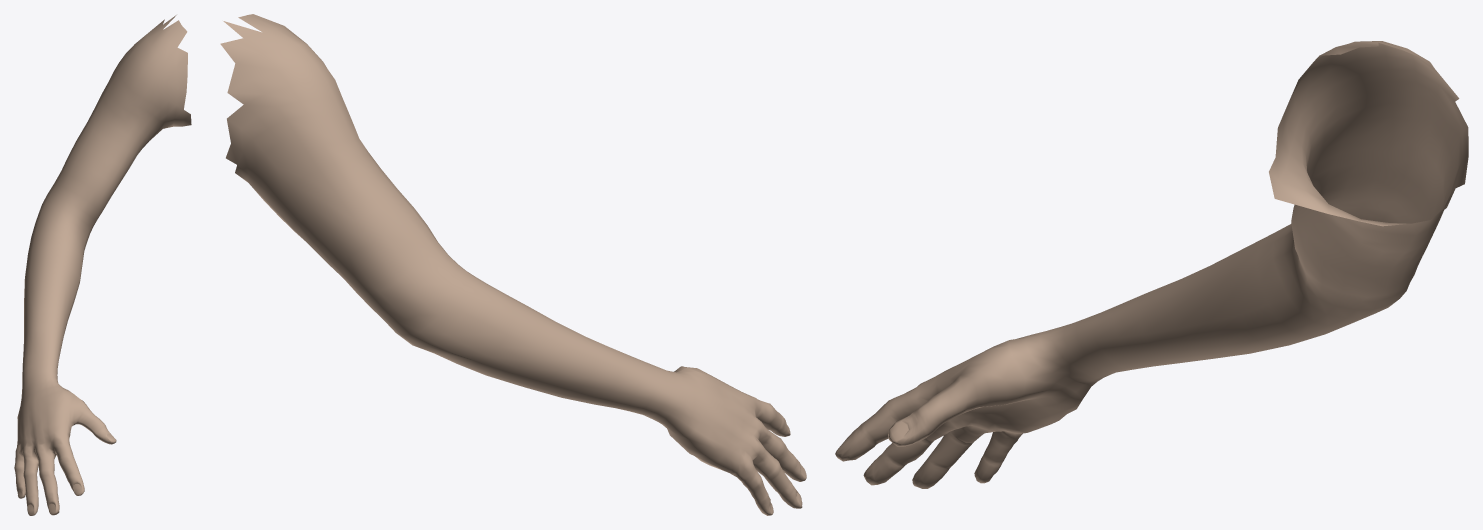
The model's file is left_arm.glb.
3 views of the same model, side by side, from view 1: azimuth 30°, elevation 25°; view 2: azimuth 150°, elevation 25°; view 3: azimuth 270°, elevation 25° (orthographic). The views are drawn at different scales.
Visible parts, largest first — view 1: base_humanMesh_base_human_0.004; view 2: base_humanMesh_base_human_0.004; view 3: base_humanMesh_base_human_0.004.
Part boxes in pixels (left/top/right/bottom): base_humanMesh_base_human_0.004: left=14, top=15, right=191, bottom=515; base_humanMesh_base_human_0.004: left=220, top=14, right=806, bottom=515; base_humanMesh_base_human_0.004: left=835, top=41, right=1468, bottom=488.
Size of the model in its own units: 0.4797 by 0.596 by 0.4901.
